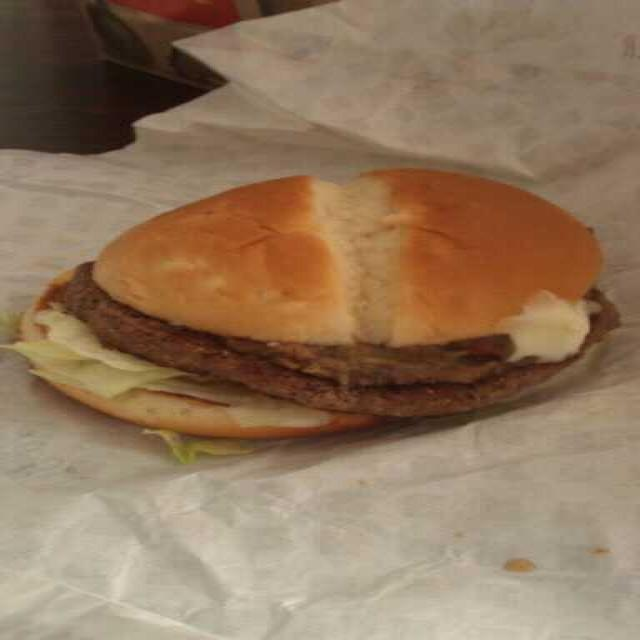Hamburger: (18, 157, 640, 463)
